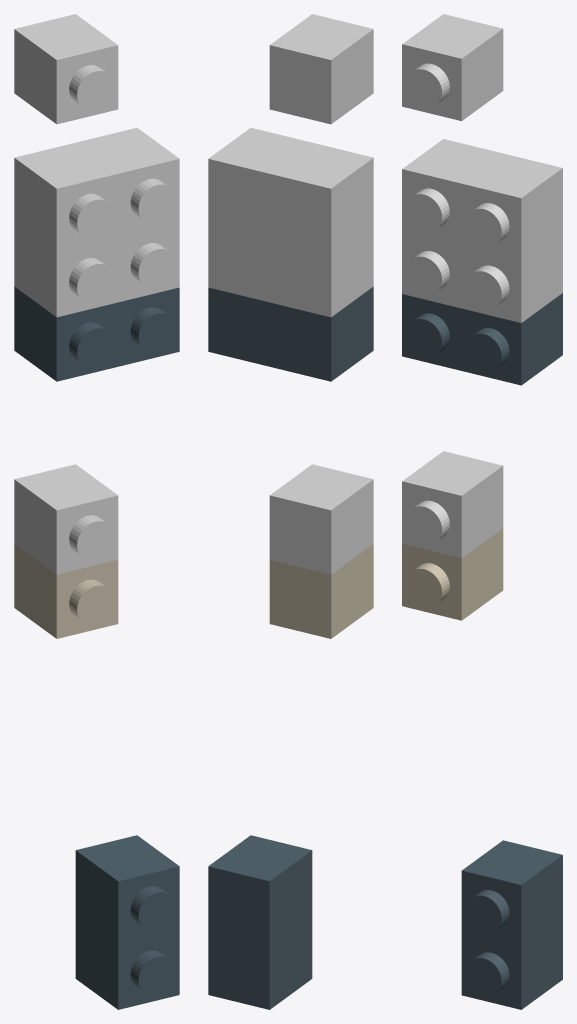
The model's file is current.glb.
3 views of the same model, side by side, from view 1: azimuth 30°, elevation 25°; view 2: azimuth 150°, elevation 25°; view 3: azimuth 330°, elevation 25° (orthographic). The views are drawn at different scales.
Visible parts, largest first — view 1: world; view 2: world; view 3: world.
Boxes of the visible parts, box(x1,y1,x2,y2) form: world: box(14, 14, 179, 1009); world: box(208, 14, 373, 1009); world: box(402, 14, 562, 1009).
Size of the model in its own units: 16 by 120 by 11.4.
